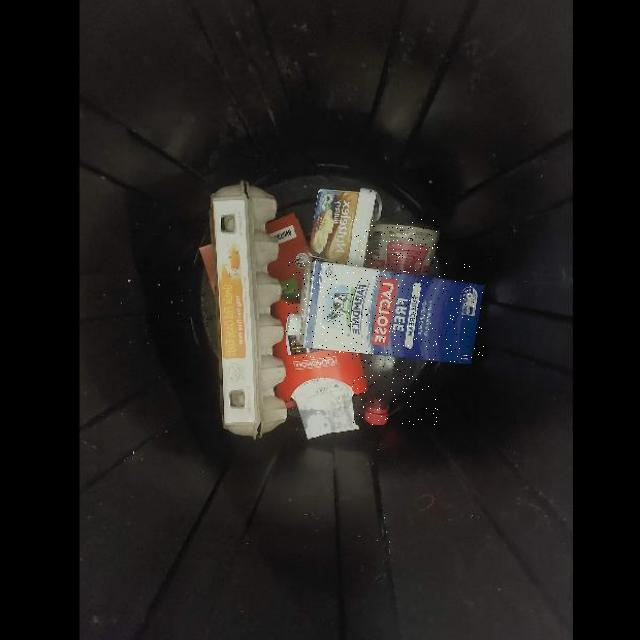paper: (287, 260, 484, 363)
plastic: (353, 219, 438, 425)
